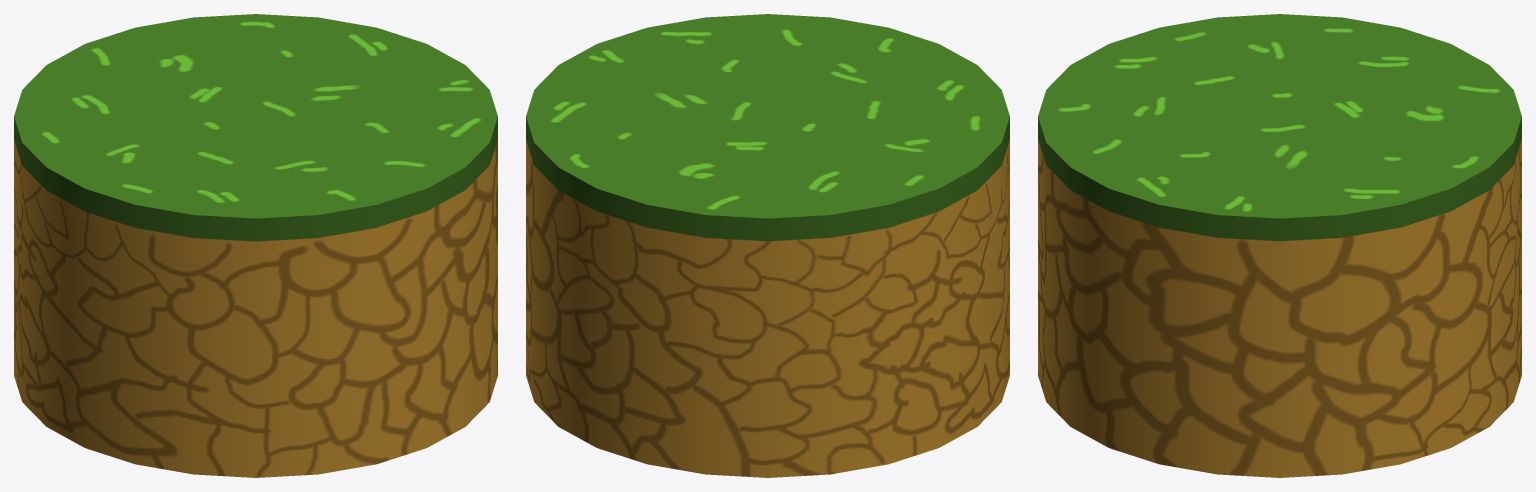
The model's file is PlateauT.fbx.
3 views of the same model, side by side, from view 1: azimuth 30°, elevation 25°; view 2: azimuth 150°, elevation 25°; view 3: azimuth 270°, elevation 25° (orthographic).
Visible parts, largest first — view 1: Plateau; view 2: Plateau; view 3: Plateau.
Boxes of the visible parts, <box> form: Plateau: <box>14,14,497,477</box>; Plateau: <box>526,14,1009,477</box>; Plateau: <box>1038,14,1521,477</box>.
Size of the model in its own units: 160 by 94.65 by 160.
